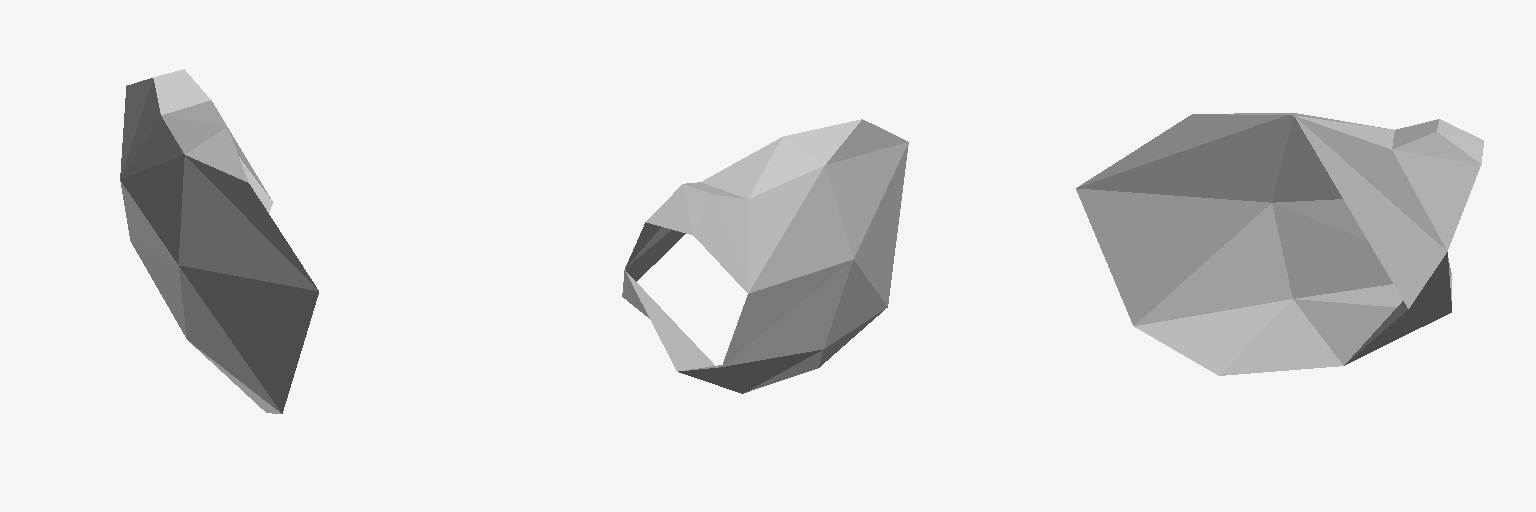
The model's file is patte_av_d_1.obj.
3 views of the same model, side by side, from view 1: azimuth 30°, elevation 25°; view 2: azimuth 150°, elevation 25°; view 3: azimuth 270°, elevation 25° (orthographic).
Parts seen in each view (by area): view 1: patte_av_d_1_Wolf.013; view 2: patte_av_d_1_Wolf.013; view 3: patte_av_d_1_Wolf.013.
Boxes of the visible parts, box(x1,y1,x2,y2) form: patte_av_d_1_Wolf.013: box(120, 69, 318, 413); patte_av_d_1_Wolf.013: box(622, 119, 908, 393); patte_av_d_1_Wolf.013: box(1076, 113, 1483, 375).
Bounding box in the file's own units: 9.92 × 15.08 × 21.52.